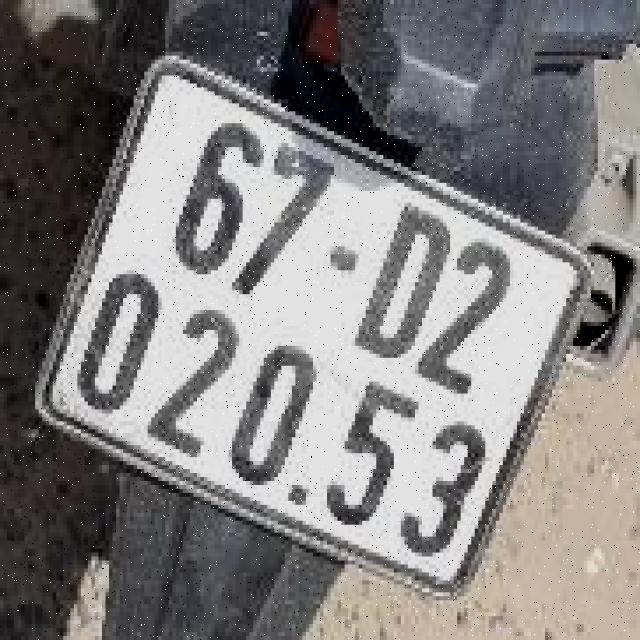0: (215, 323, 330, 502), (64, 255, 181, 428)
2: (130, 287, 261, 475), (405, 228, 529, 412)
3: (387, 408, 504, 571)
5: (309, 369, 427, 544)
6: (163, 107, 278, 289)
7: (219, 136, 352, 313)
D: (342, 193, 465, 376)
